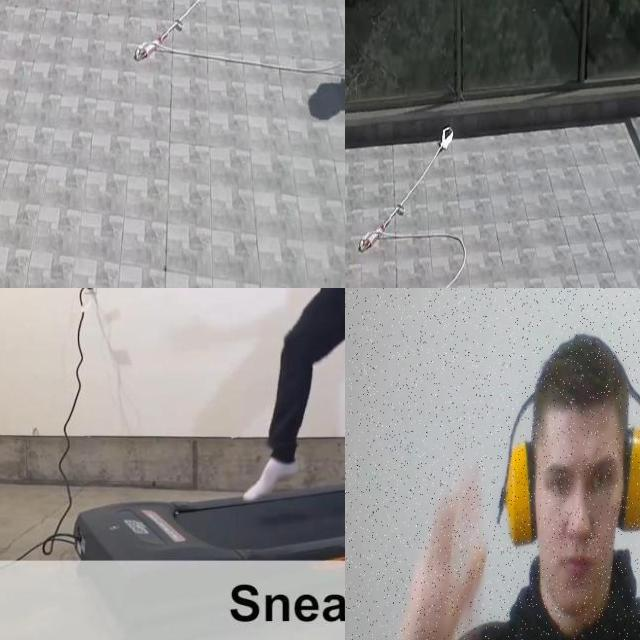Ear-protection: (495, 431, 542, 573), (613, 407, 640, 548)
Harness: (359, 127, 452, 252), (135, 0, 203, 62)
No_Glasses: (540, 451, 619, 508)
person: (240, 288, 345, 509)
